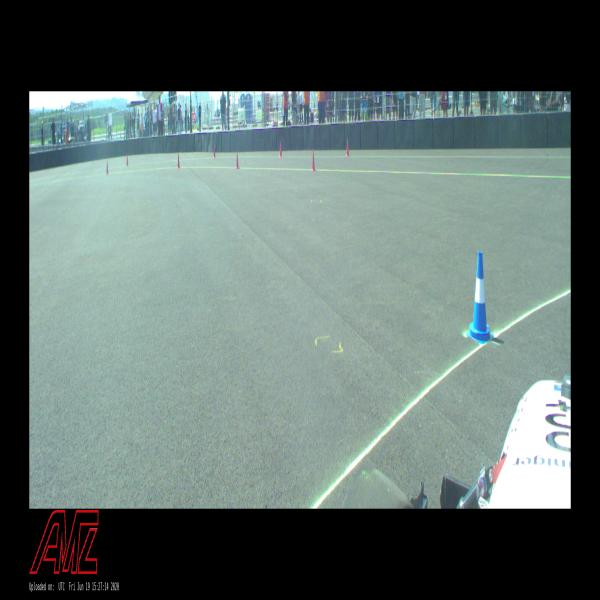blue_cone: (467, 251, 494, 344)
